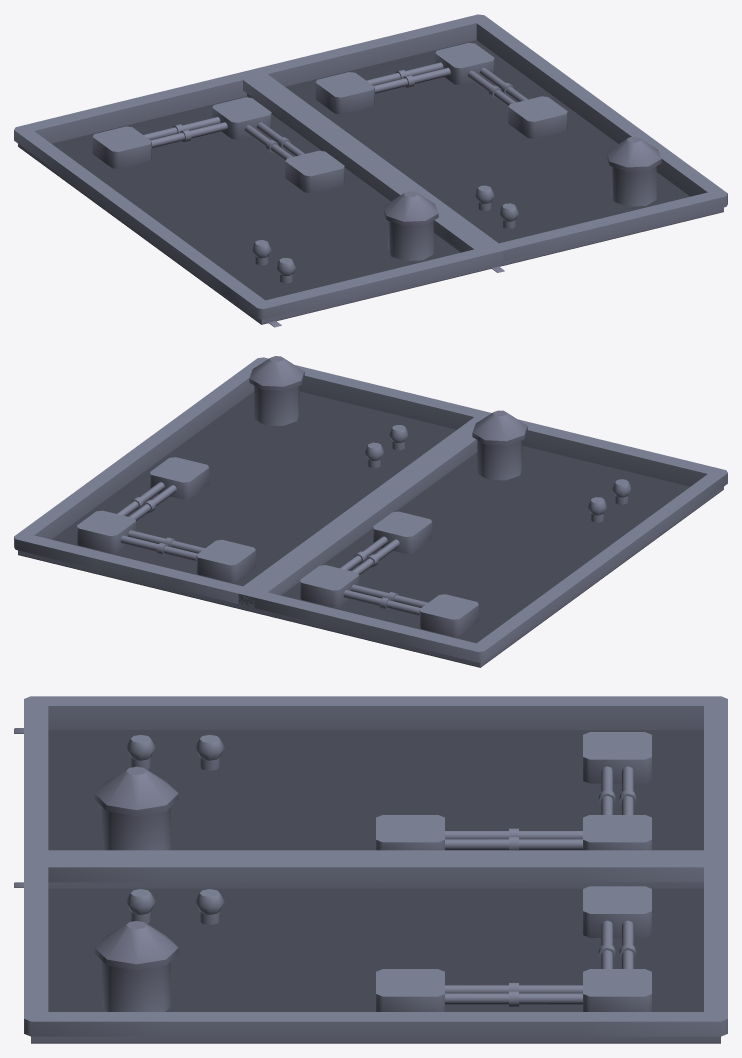
Rendered from industrial-a.glb.
3 renders of one model, top to bottom at view 1: azimuth 30°, elevation 25°; view 2: azimuth 150°, elevation 25°; view 3: azimuth 270°, elevation 25°, orthographic. The views are drawn at different scales.
Visible parts, largest first — view 1: building-a; view 2: building-a; view 3: building-a.
Boxes of the visible parts, bbox=[...] form: building-a: bbox=[14, 14, 727, 327]; building-a: bbox=[14, 356, 727, 667]; building-a: bbox=[14, 696, 727, 1043].
Size of the model in its own units: 14.99 by 1.76 by 13.9.
Materials: 1 (1 with a texture image).
